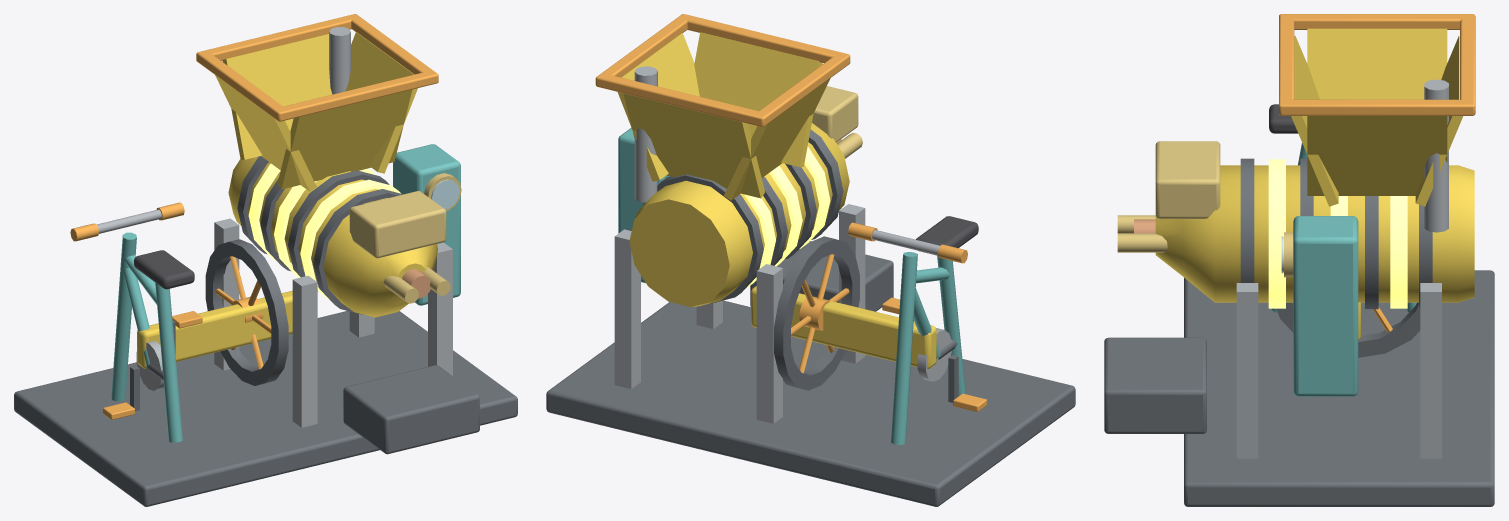
Rendered from machine_plastic_melter.fbx.
3 views of the same model, side by side, from view 1: azimuth 30°, elevation 25°; view 2: azimuth 150°, elevation 25°; view 3: azimuth 270°, elevation 25° (orthographic). The views are drawn at different scales.
Parts seen in each view (by area): view 1: machine_plastic_melter, Upgrade_Lvl1, FlywheelPivot, GlowMesh, PedalPivot; view 2: machine_plastic_melter, FlywheelPivot, Upgrade_Lvl1, GlowMesh, PedalPivot; view 3: machine_plastic_melter, Upgrade_Lvl1, GlowMesh, FlywheelPivot.
Part boxes in pixels (<box>): machine_plastic_melter: <box>14,14,517,506</box>; Upgrade_Lvl1: <box>349,144,461,305</box>; FlywheelPivot: <box>205,239,288,385</box>; GlowMesh: <box>248,163,400,299</box>; PedalPivot: <box>103,311,202,419</box>; machine_plastic_melter: <box>546,14,1075,506</box>; FlywheelPivot: <box>774,236,859,390</box>; Upgrade_Lvl1: <box>618,86,862,283</box>; GlowMesh: <box>744,146,830,288</box>; PedalPivot: <box>882,297,986,411</box>; machine_plastic_melter: <box>1104,14,1494,506</box>; Upgrade_Lvl1: <box>1117,141,1358,396</box>; GlowMesh: <box>1268,159,1407,308</box>; FlywheelPivot: <box>1276,302,1420,357</box>.
Bounding box in the file's own units: 1.88 × 1.56 × 1.44.
